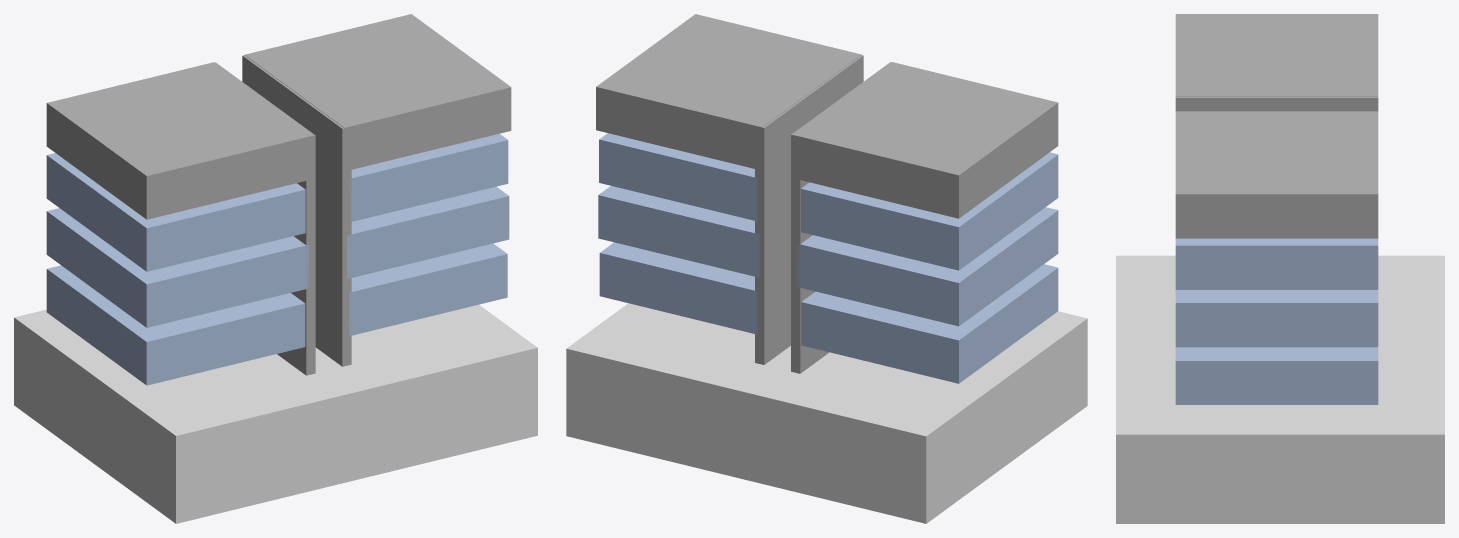
File: etch_gate_trenches.glb
3 views of the same model, side by side, from view 1: azimuth 30°, elevation 25°; view 2: azimuth 150°, elevation 25°; view 3: azimuth 270°, elevation 25° (orthographic).
Parts seen in each view (by area): view 1: Cube, Cube.003, Cube.010, Cube.001, Cube.002, Cube.004, Cube.009, Cube.007, Cube.006, Cube.005, Cube.008; view 2: Cube, Cube.003, Cube.010, Cube.001, Cube.002, Cube.004, Cube.009, Cube.007, Cube.006, Cube.005, Cube.008; view 3: Cube, Cube.010, Cube.003, Cube.007, Cube.006, Cube.005, Cube.008.
Boxes of the visible parts, x1,y1,x2,y2 form: Cube: (14, 304, 537, 523); Cube.003: (46, 62, 313, 219); Cube.010: (245, 14, 511, 169); Cube.001: (46, 265, 305, 385); Cube.002: (46, 208, 309, 327); Cube.004: (46, 153, 305, 271); Cube.009: (242, 55, 351, 366); Cube.007: (349, 243, 507, 335); Cube.006: (347, 186, 509, 278); Cube.005: (349, 133, 508, 221); Cube.008: (214, 62, 315, 375); Cube: (566, 303, 1087, 523); Cube.003: (792, 62, 1058, 218); Cube.010: (596, 14, 861, 168); Cube.001: (801, 264, 1058, 383); Cube.002: (797, 207, 1058, 326); Cube.004: (801, 152, 1058, 270); Cube.009: (755, 55, 863, 364); Cube.007: (599, 242, 757, 334); Cube.006: (598, 186, 759, 277); Cube.005: (599, 133, 757, 221); Cube.008: (791, 62, 891, 373); Cube: (1116, 255, 1444, 523); Cube.010: (1175, 112, 1378, 238); Cube.003: (1175, 14, 1378, 96); Cube.007: (1175, 347, 1378, 404); Cube.006: (1175, 290, 1378, 347); Cube.005: (1175, 238, 1378, 289); Cube.008: (1175, 97, 1378, 111).
Bounding box in the file's own units: 5.4 × 4.62 × 4.16.
